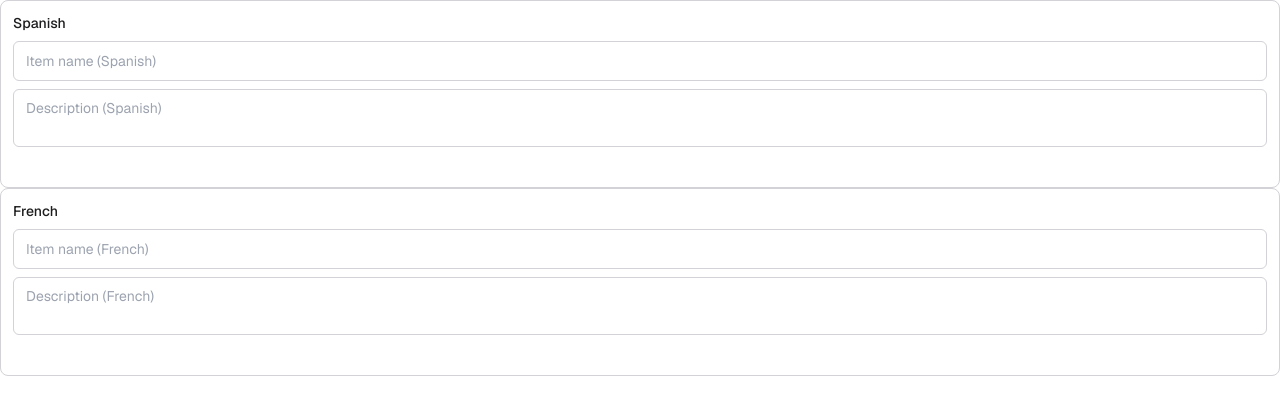
Test: TranslationCard › two cards have independent status — saving on es does not affect fr
Note: Trigger es save
In the field named "Spanish name": (640, 61) [13,41,1267,81], type "Hamburguesa"
Wait 2000 ms
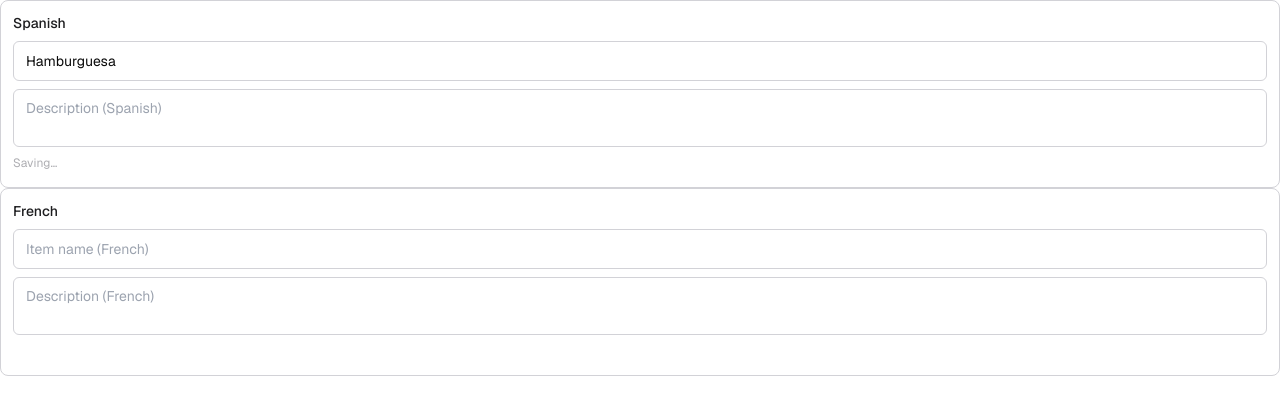
Expected: the message "Saving…" is shown, [13,155,57,171]
